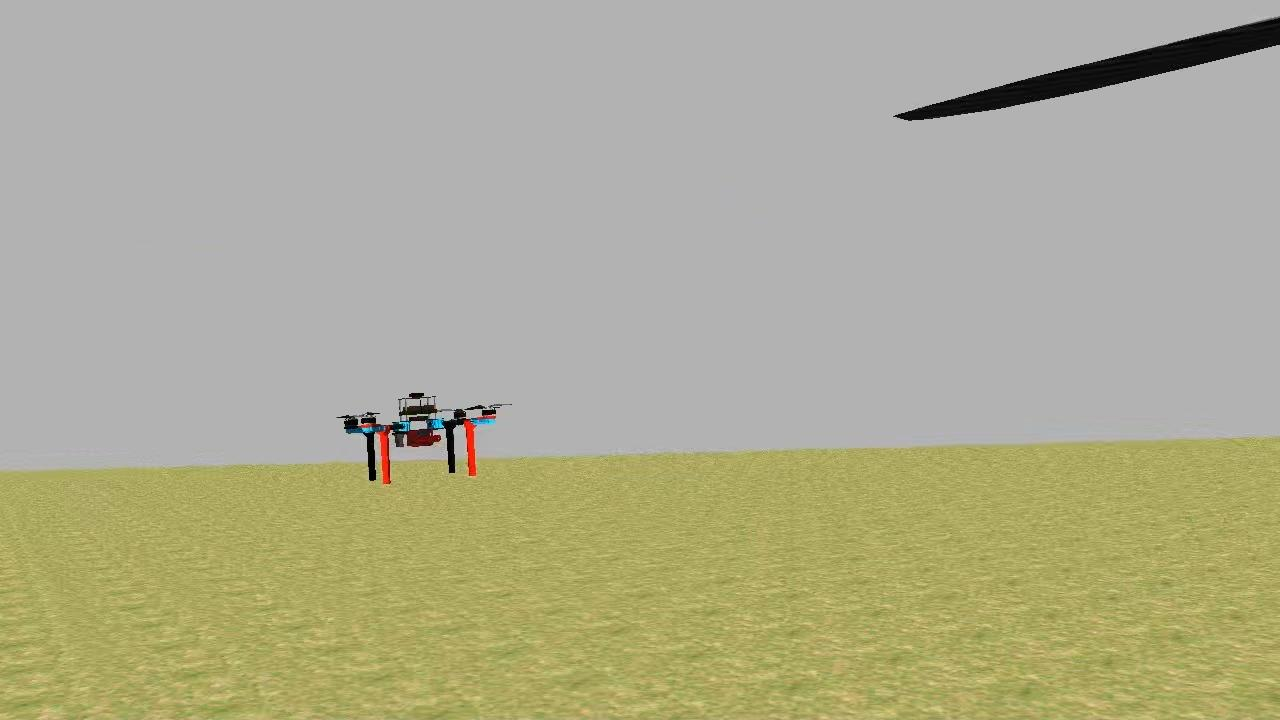UAV: (340, 383, 506, 488)
